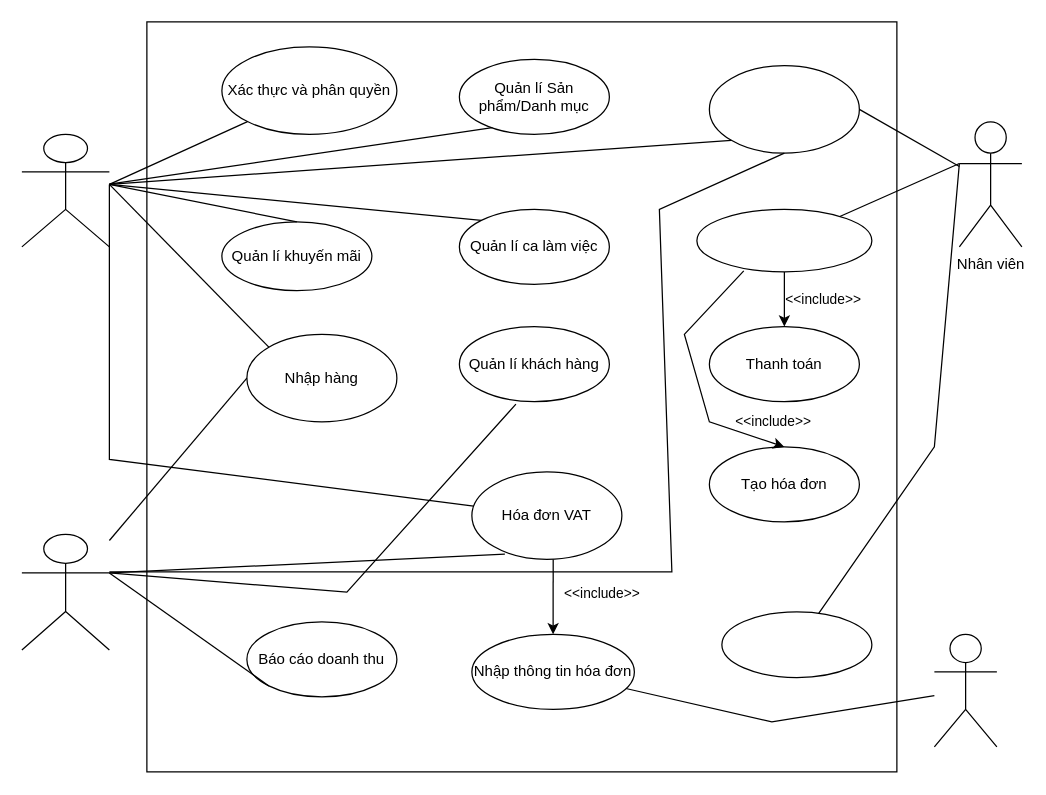
Image size: 1046x795. Some labels were removed from this diagram. Here are the shapes that lost their labels. From the top down, the centre of each, then its label:
At point 783,108: "Quản lí đơn hàng".
At point 65,190: "Admin".
At point 784,240: "Bán hàng".
At point 65,591: "Quản lí".
At point 796,644: "Tích điểm".
At point 965,690: "Khách hàng".
